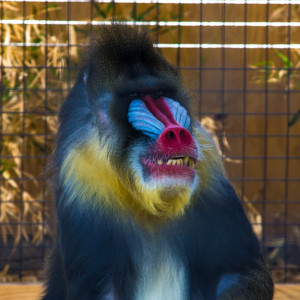Mandrill: (47, 33, 265, 296)
